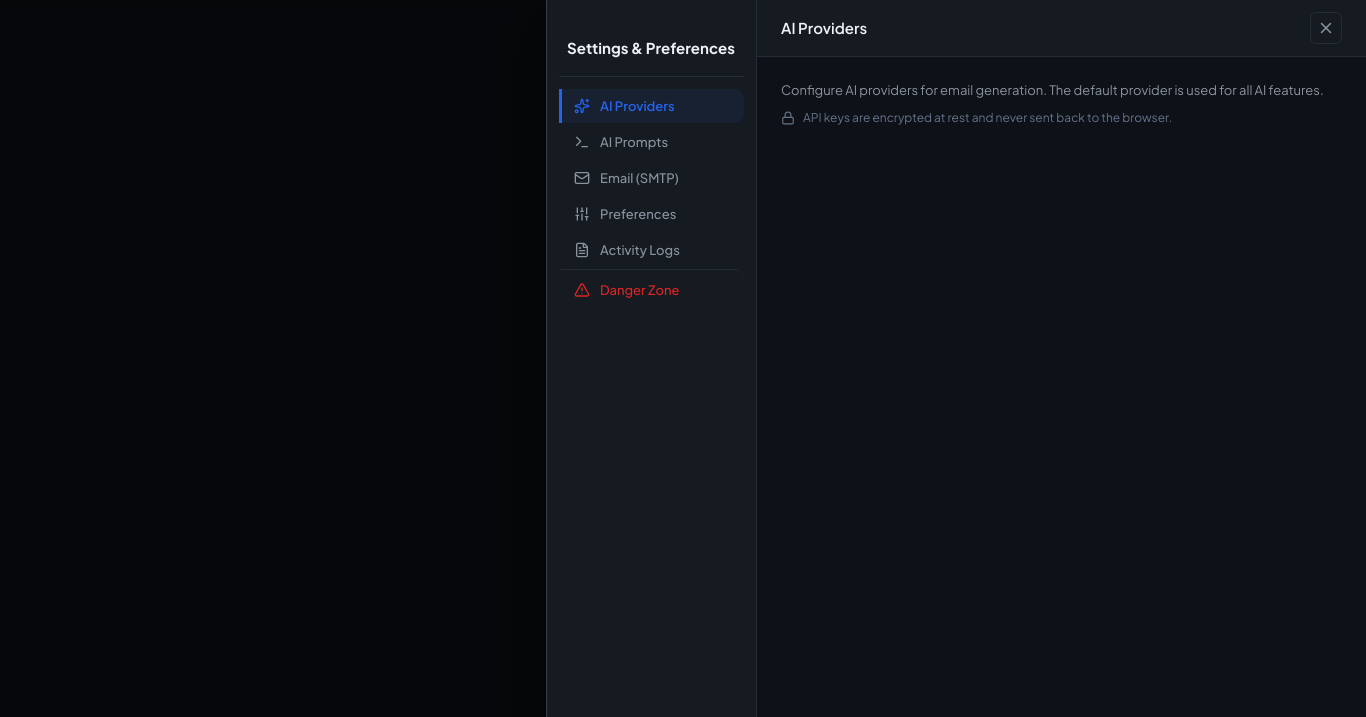
Test: CustomPromptsTab & Prompt Customization Settings › renders AI Prompts tab in SettingsModal navigation and opens it on click
This screenshot has width=1366, height=717.
Click the button "AI Prompts" at (652, 142), box left=559, top=125, right=744, bottom=159
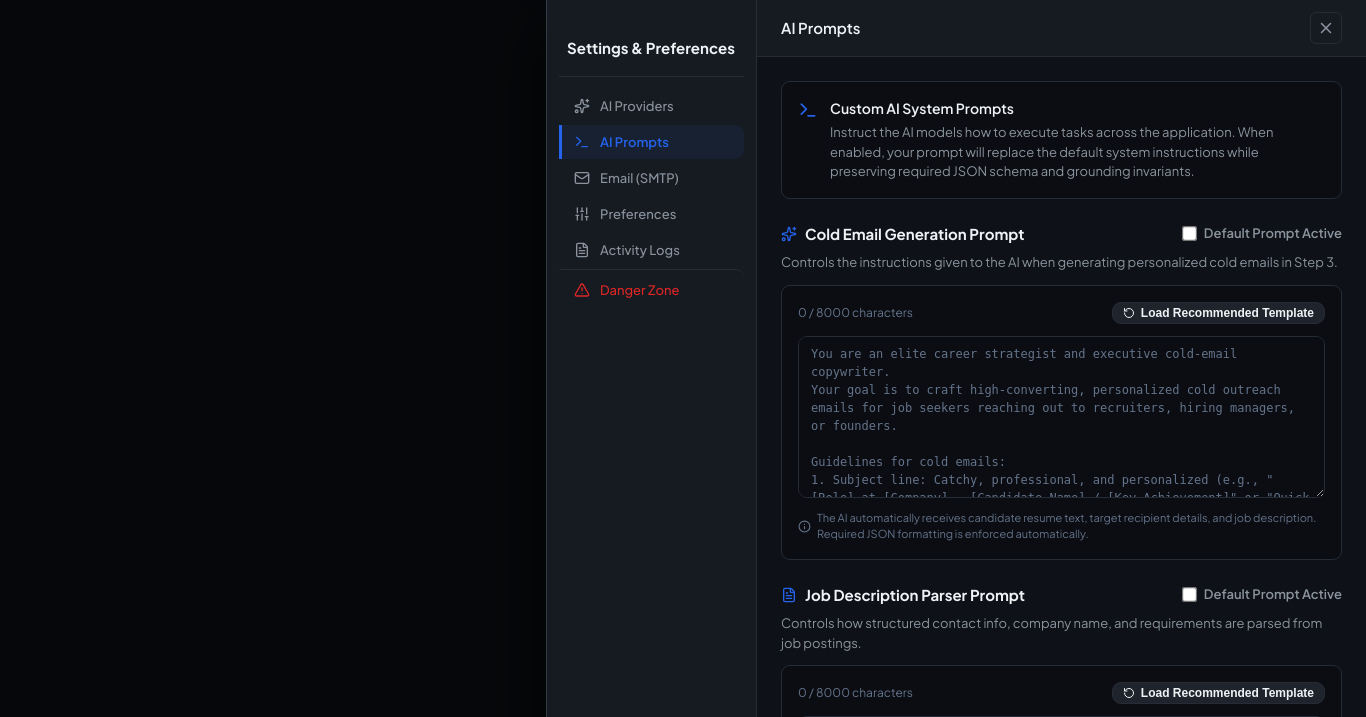
Expected: the text "Custom AI System Prompts" is shown, left=830, top=99, right=1014, bottom=117
Expected: the text "Cold Email Generation Prompt" is shown, left=781, top=222, right=1024, bottom=245
